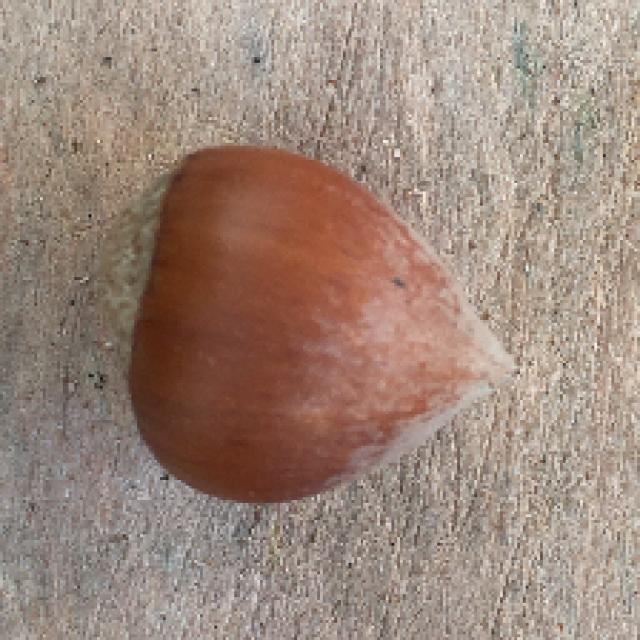qualityHazelnut: (106, 137, 514, 503)
